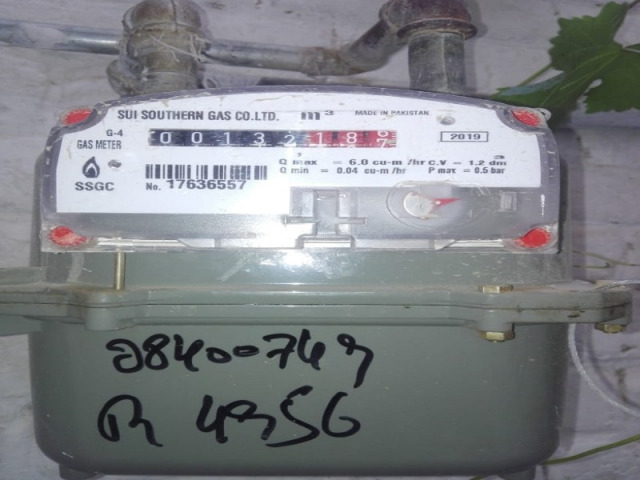ssgc: (141, 124, 404, 157)
